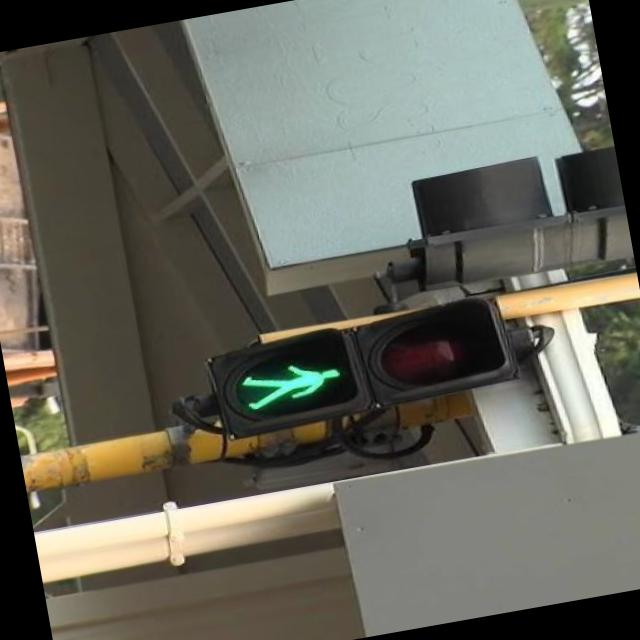green_light: (228, 346, 346, 422)
